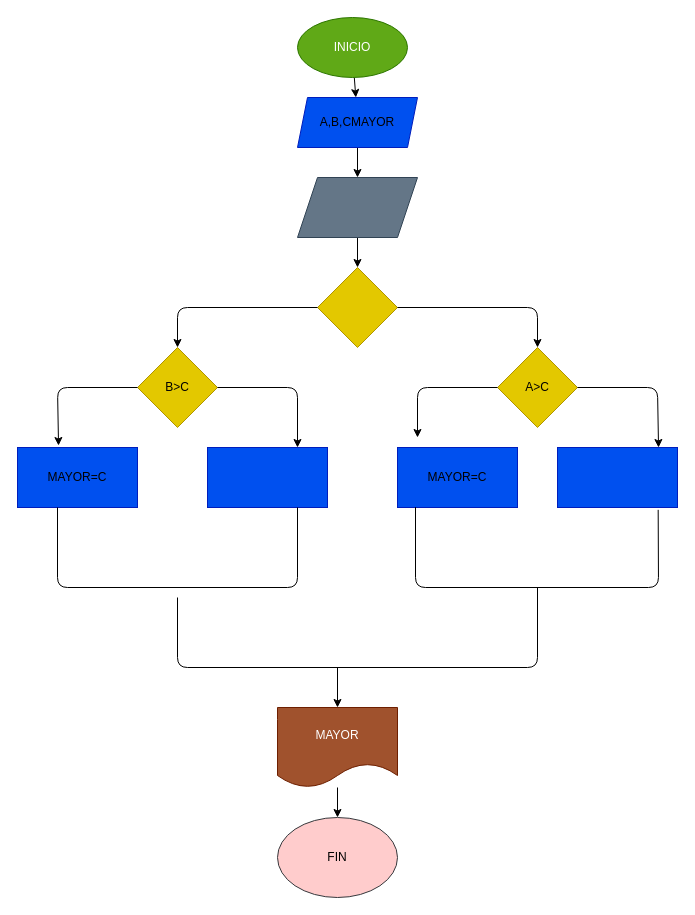
The diagram is 695 pixels wide and 915 high, and some of its shapes have lost their labels. The centre of each missing label's shape, as x and y in pixels:
A,B,C: the point at 357,207
A>B: the point at 357,307
MAYOR=A: the point at 617,477
MAYOR=B: the point at 267,477
